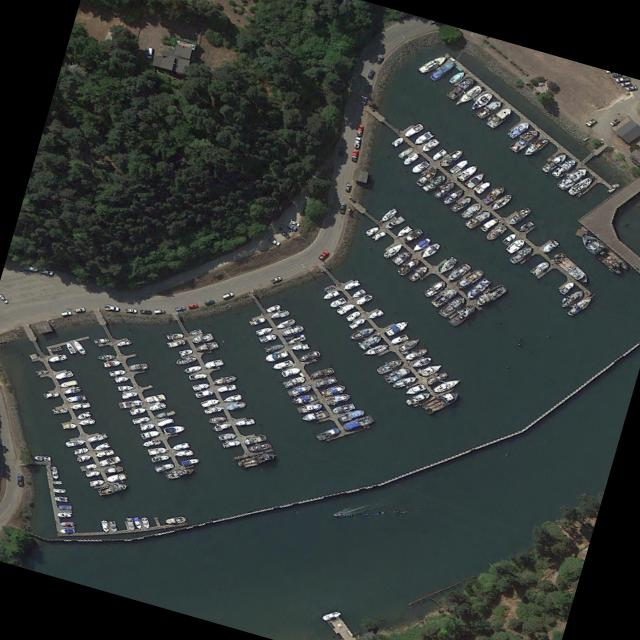ship: (575, 228, 631, 274), (550, 250, 591, 284), (420, 388, 462, 414), (506, 125, 539, 152), (472, 282, 507, 306), (234, 449, 277, 468), (555, 165, 588, 189), (451, 81, 482, 106), (445, 74, 475, 99), (445, 302, 477, 325), (436, 293, 466, 317), (453, 266, 484, 289), (484, 104, 512, 128), (539, 150, 568, 173), (416, 52, 447, 73), (565, 173, 594, 195), (462, 208, 492, 229), (429, 285, 457, 307), (339, 413, 374, 430), (463, 276, 490, 298), (428, 58, 455, 80), (566, 293, 593, 315), (474, 97, 502, 118), (437, 146, 465, 167), (520, 135, 548, 156), (413, 164, 439, 186), (550, 156, 577, 177), (479, 182, 506, 203), (507, 243, 534, 264), (430, 375, 461, 393), (444, 261, 471, 281), (468, 89, 493, 110), (382, 364, 411, 382), (374, 356, 403, 374), (421, 277, 447, 297), (506, 204, 531, 224), (395, 256, 421, 275), (420, 172, 446, 191), (383, 317, 410, 335), (359, 341, 389, 357), (431, 178, 455, 198), (449, 192, 473, 212), (483, 221, 507, 241), (347, 323, 375, 340), (505, 119, 530, 138), (560, 287, 585, 306), (417, 240, 441, 259), (455, 162, 479, 181), (440, 185, 464, 204), (96, 480, 128, 494), (436, 254, 458, 274), (488, 191, 511, 210), (404, 389, 431, 405), (396, 335, 421, 352), (406, 263, 429, 281), (380, 240, 403, 258), (459, 200, 482, 218), (390, 373, 417, 388), (163, 465, 194, 478), (417, 360, 442, 376), (307, 365, 335, 379), (337, 407, 365, 421), (400, 226, 423, 243), (314, 425, 340, 440), (423, 369, 447, 385), (285, 382, 312, 396), (319, 382, 346, 396), (504, 235, 525, 253), (294, 400, 323, 413), (463, 170, 485, 187), (528, 258, 550, 275), (298, 408, 329, 420), (410, 129, 433, 145), (402, 346, 428, 360), (289, 391, 317, 404), (323, 391, 351, 404), (377, 205, 397, 223), (448, 156, 469, 173), (390, 248, 412, 264), (408, 354, 433, 368), (359, 332, 382, 347), (410, 235, 431, 251), (402, 121, 423, 137), (478, 215, 499, 231), (279, 323, 304, 336), (262, 348, 287, 361), (280, 374, 305, 387), (295, 348, 320, 361), (418, 136, 439, 151), (383, 214, 404, 229), (312, 374, 336, 387), (329, 401, 354, 413), (409, 158, 429, 173), (539, 238, 559, 253), (96, 454, 120, 466), (211, 373, 237, 384), (245, 440, 271, 451), (447, 68, 466, 83), (402, 382, 425, 394), (242, 432, 265, 444), (192, 340, 217, 351), (334, 301, 355, 314), (400, 151, 419, 165), (270, 357, 292, 369), (189, 331, 213, 342), (274, 316, 294, 329), (340, 277, 360, 290), (70, 337, 86, 353), (268, 307, 289, 319), (473, 179, 491, 193), (557, 279, 575, 293), (320, 608, 341, 620), (347, 315, 366, 328), (279, 365, 301, 376), (85, 431, 107, 442), (224, 399, 246, 410), (388, 332, 408, 344), (326, 295, 346, 307), (161, 423, 185, 433), (516, 218, 534, 231), (285, 333, 306, 344), (202, 357, 223, 368), (197, 396, 220, 406), (142, 392, 165, 402), (353, 292, 372, 304), (117, 398, 142, 407), (429, 147, 446, 160), (394, 224, 411, 237), (500, 231, 517, 244), (319, 288, 339, 299), (101, 463, 123, 473), (104, 471, 126, 481), (153, 408, 175, 418), (365, 307, 383, 319), (174, 355, 197, 364), (396, 145, 413, 157), (257, 332, 277, 342), (216, 430, 236, 440), (93, 447, 113, 457), (154, 461, 174, 471), (169, 440, 189, 450), (139, 428, 159, 438), (91, 440, 109, 451), (232, 416, 254, 425), (254, 324, 273, 334), (263, 342, 284, 351), (214, 382, 235, 391), (46, 352, 67, 361), (126, 361, 147, 370), (344, 309, 361, 320), (363, 224, 380, 235), (220, 438, 240, 447), (146, 445, 166, 454), (140, 437, 160, 446), (193, 388, 213, 397), (221, 392, 241, 401), (57, 378, 77, 387), (52, 369, 72, 378), (130, 414, 150, 423), (349, 287, 365, 298), (68, 401, 90, 409), (64, 393, 86, 401), (211, 421, 230, 430), (180, 456, 199, 465), (183, 363, 202, 372), (203, 404, 222, 413), (207, 414, 226, 423), (154, 416, 173, 425), (61, 385, 80, 394), (146, 401, 165, 410), (74, 409, 91, 419), (163, 515, 184, 523), (78, 461, 96, 470), (264, 302, 280, 312), (149, 453, 169, 461), (172, 448, 192, 456), (64, 438, 84, 446), (248, 315, 265, 324), (166, 338, 185, 346), (190, 381, 209, 389), (370, 229, 385, 239), (322, 282, 337, 292), (124, 516, 135, 529), (389, 135, 403, 145), (102, 358, 119, 366), (120, 389, 137, 397), (289, 342, 308, 349), (64, 340, 75, 352), (131, 515, 141, 528), (75, 453, 91, 461), (88, 477, 104, 485), (177, 347, 193, 355), (138, 421, 154, 429), (165, 331, 183, 338), (107, 368, 125, 375), (128, 406, 146, 413), (187, 372, 207, 378), (76, 417, 93, 424), (41, 390, 58, 397), (114, 338, 131, 345), (99, 518, 108, 531), (96, 353, 115, 359), (73, 446, 89, 453), (33, 453, 49, 460), (49, 464, 57, 478), (93, 336, 109, 343), (139, 516, 149, 527), (108, 519, 117, 531), (84, 469, 99, 476), (113, 374, 128, 381), (116, 384, 133, 390), (187, 327, 201, 334), (34, 367, 48, 374), (51, 406, 67, 412), (331, 509, 344, 516), (47, 344, 60, 351), (61, 422, 76, 428), (282, 332, 293, 340), (54, 510, 71, 515), (53, 494, 67, 500), (605, 185, 615, 193), (58, 527, 74, 532), (58, 520, 73, 525), (51, 486, 64, 491), (50, 479, 61, 483)
small-vehicle: (101, 303, 117, 311), (265, 236, 279, 244), (317, 249, 328, 259), (608, 116, 620, 125), (277, 229, 289, 238), (349, 148, 358, 160), (268, 274, 281, 282), (287, 218, 300, 226), (584, 116, 595, 125), (22, 263, 36, 270), (145, 45, 153, 57), (38, 267, 51, 274), (220, 290, 233, 297), (614, 75, 629, 81), (373, 53, 383, 62), (73, 305, 85, 312), (185, 301, 197, 308), (202, 297, 214, 304), (353, 135, 360, 147), (355, 122, 362, 134), (365, 67, 374, 76), (0, 293, 8, 303), (16, 473, 23, 484), (285, 222, 296, 229), (338, 201, 345, 212), (60, 309, 72, 315), (138, 308, 151, 313), (363, 82, 370, 91), (359, 94, 366, 103), (153, 307, 165, 312), (344, 182, 351, 190), (625, 84, 636, 89), (619, 80, 630, 85), (173, 304, 184, 309), (123, 307, 135, 311)
